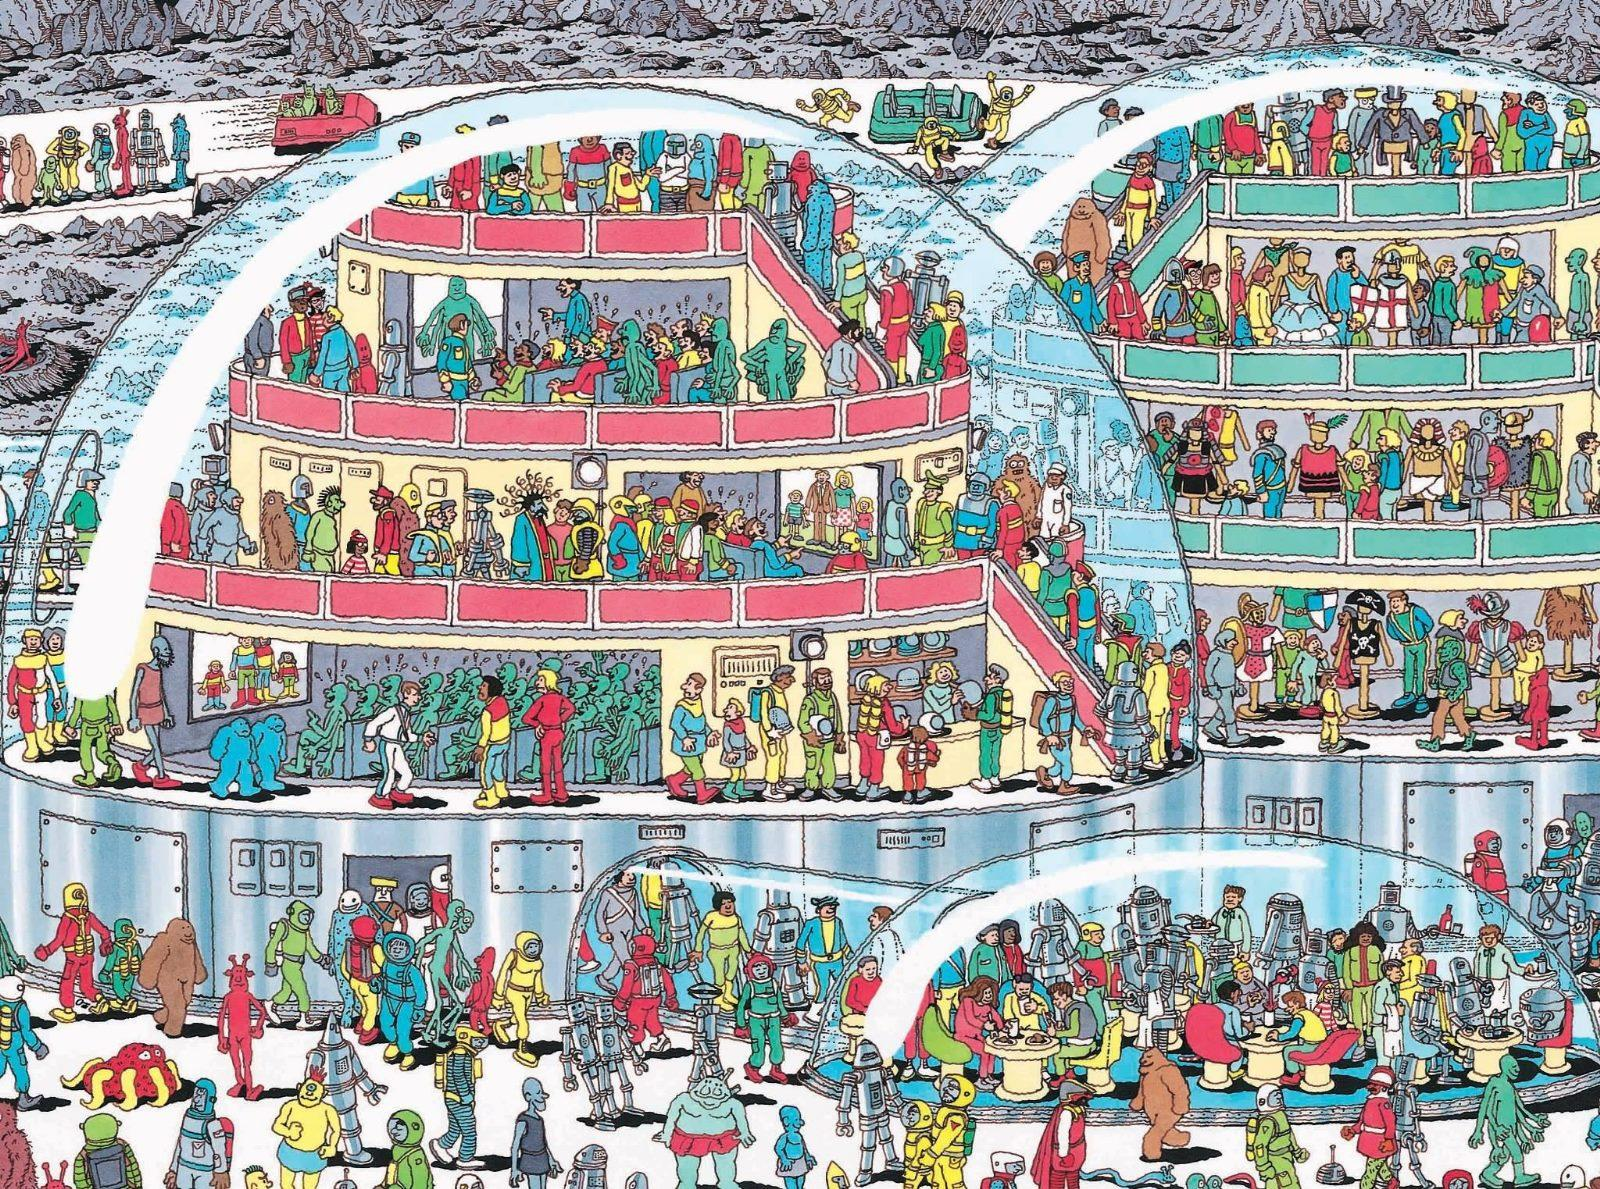waldos: (1179, 254, 1204, 297)
